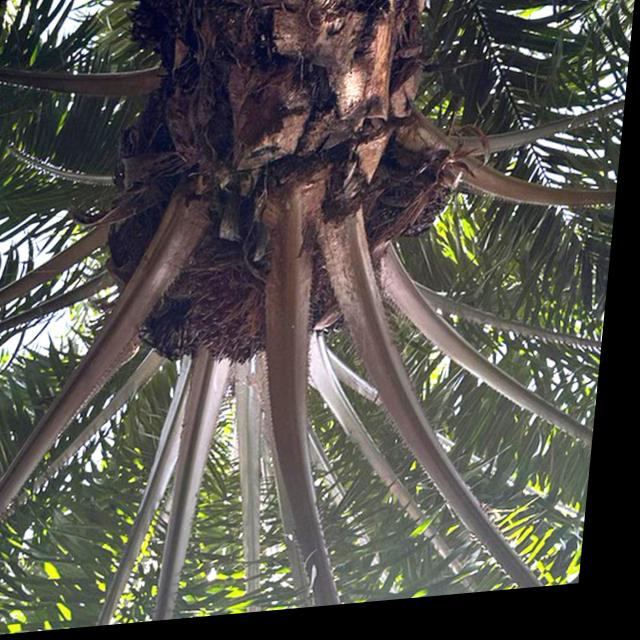ripe: (157, 251, 304, 387)
